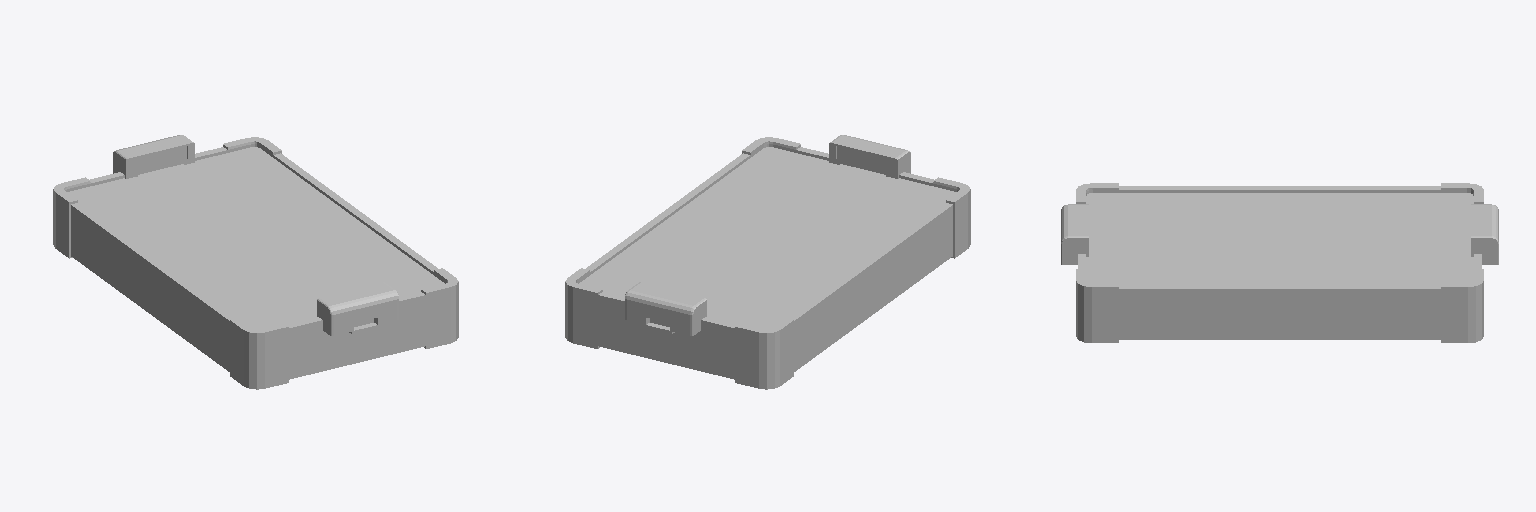
The model's file is HockeyTable.obj.
The picture shows the model from 3 angles: view 1: azimuth 30°, elevation 25°; view 2: azimuth 150°, elevation 25°; view 3: azimuth 270°, elevation 25°; orthographic projection.
Parts seen in each view (by area): view 1: Table_Cube.001, Goals_Cube.002; view 2: Table_Cube.001, Goals_Cube.002; view 3: Table_Cube.001, Goals_Cube.002.
Boxes of the visible parts, <box> form: Table_Cube.001: <box>53,137,458,389</box>; Goals_Cube.002: <box>113,135,398,335</box>; Table_Cube.001: <box>565,137,970,389</box>; Goals_Cube.002: <box>625,135,910,335</box>; Table_Cube.001: <box>1076,183,1483,342</box>; Goals_Cube.002: <box>1061,204,1498,264</box>.
Size of the model in its own units: 6.07 by 1.94 by 10.83.